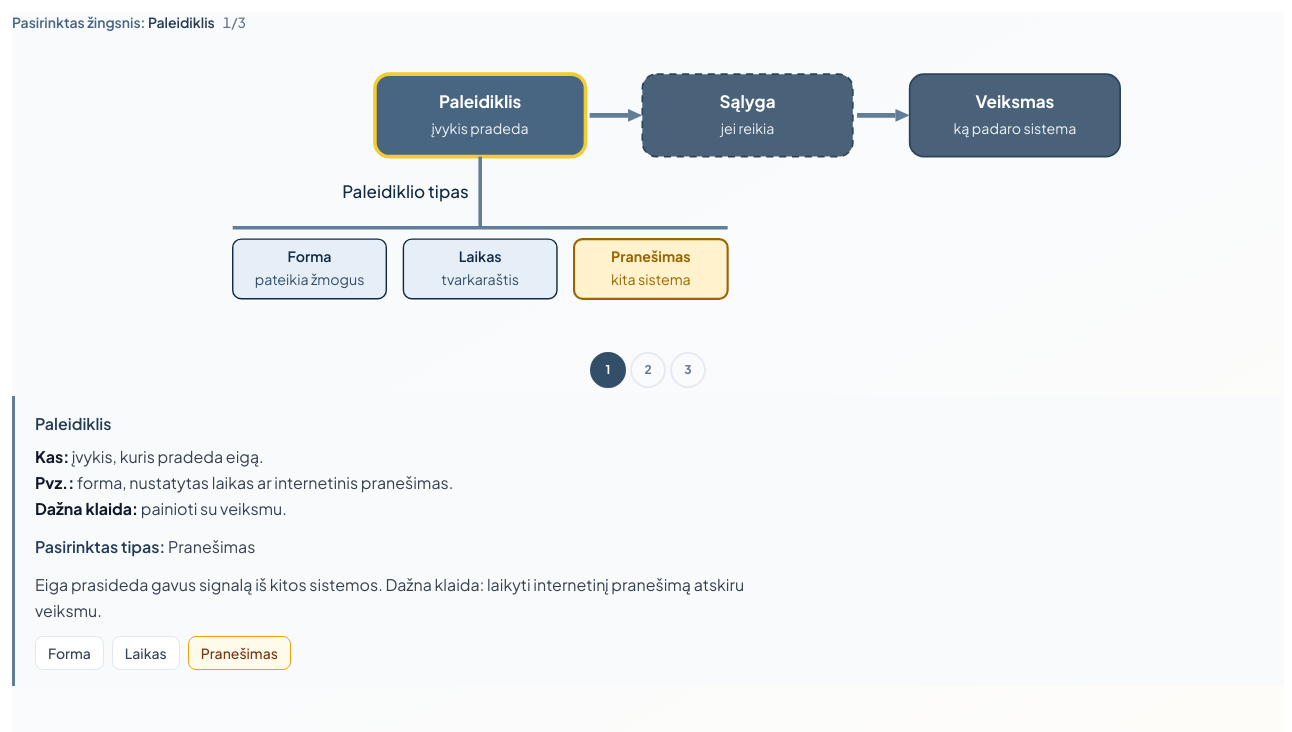
Scenario: M10TriggerFlowBlock process-config-hierarchy › hides the type appendix on later Shell steps
The width and height of the screenshot is (1292, 732).
Click the button named "Žingsnis 2:" at (648, 370), box 630,352 -> 666,388
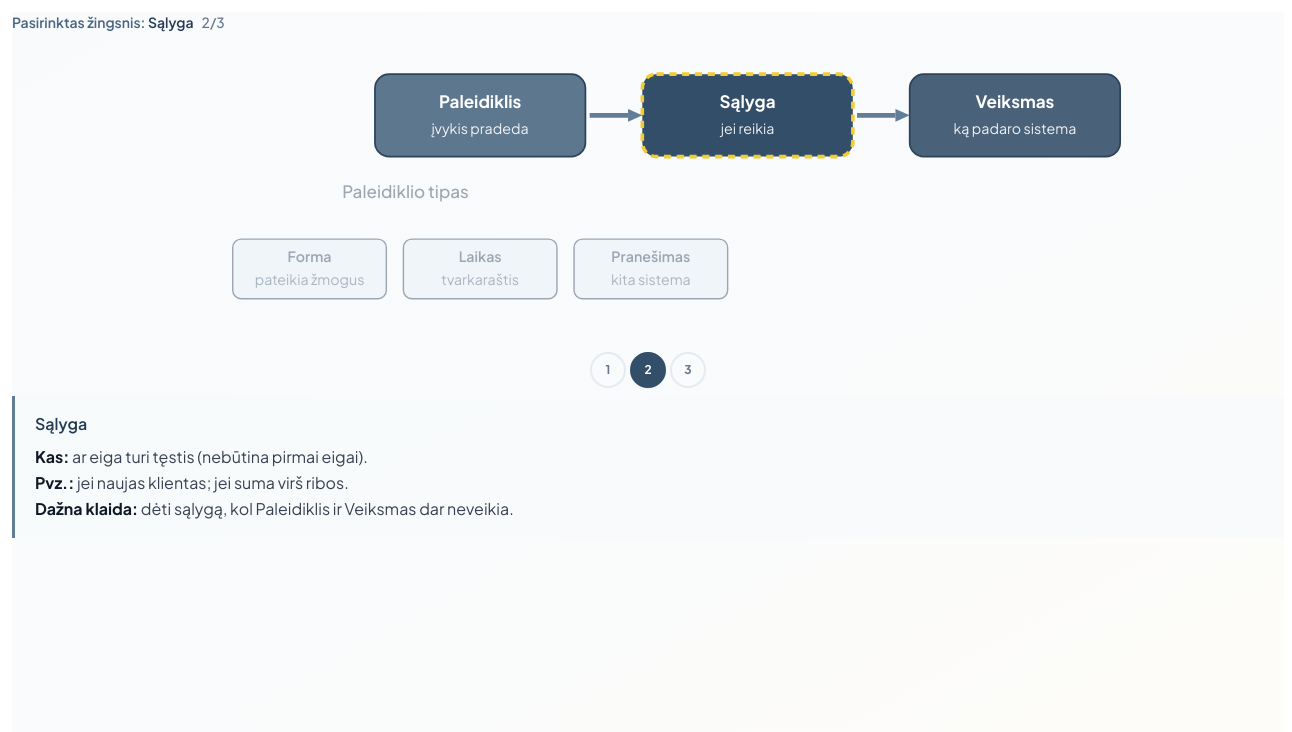
Result: the text "ar eiga turi tęstis" is shown at 69,446 -> 368,467
Result: the text "Pasirinktas tipas:" is gone
